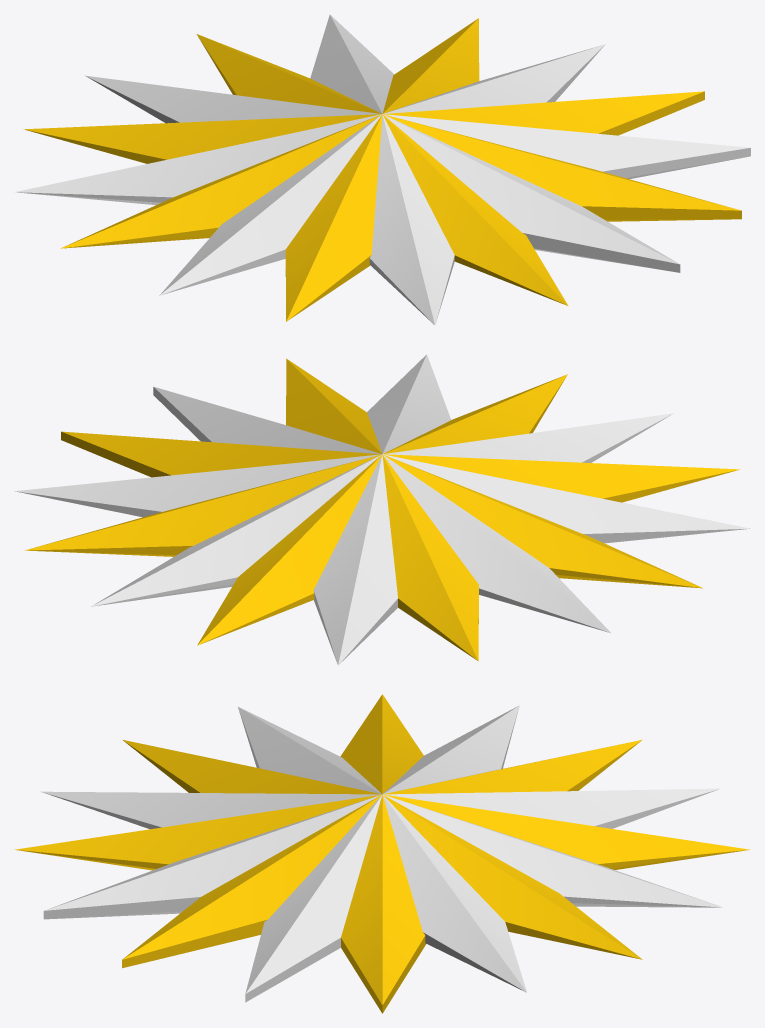
The model's file is gold_star.glb.
3 renders of one model, top to bottom at view 1: azimuth 30°, elevation 25°; view 2: azimuth 150°, elevation 25°; view 3: azimuth 270°, elevation 25°, orthographic.
Visible parts, largest first — view 1: pCylinder3_lambert2_2, pCylinder3_lambert2_1; view 2: pCylinder3_lambert2_1, pCylinder3_lambert2_2; view 3: pCylinder3_lambert2_2, pCylinder3_lambert2_1.
Part boxes in pixels (x1,y1,x2,y2): pCylinder3_lambert2_2: [14, 14, 750, 325]; pCylinder3_lambert2_1: [24, 18, 741, 321]; pCylinder3_lambert2_1: [24, 358, 740, 661]; pCylinder3_lambert2_2: [15, 354, 749, 665]; pCylinder3_lambert2_2: [41, 705, 723, 1002]; pCylinder3_lambert2_1: [15, 694, 749, 1013].
Bounding box in the file's own units: 0.2277 × 0.0377 × 0.2277.
